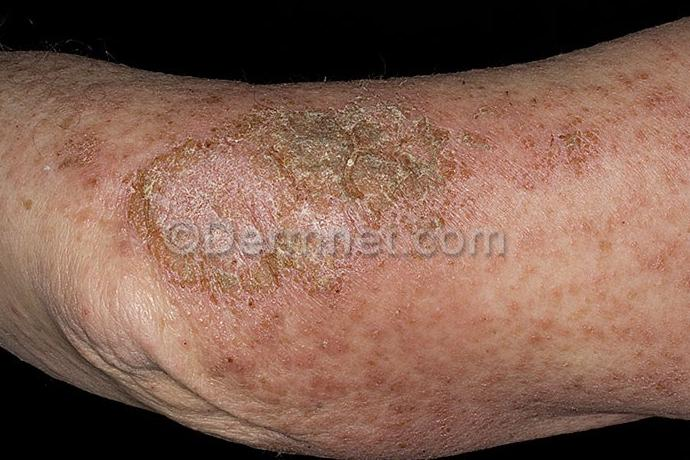eritema 1: (197, 86, 496, 362), (77, 85, 288, 260)
exudacion 1: (469, 67, 690, 193), (42, 130, 111, 176)
exudacion 3: (139, 110, 465, 301)
xerosis 1: (244, 68, 502, 94)
